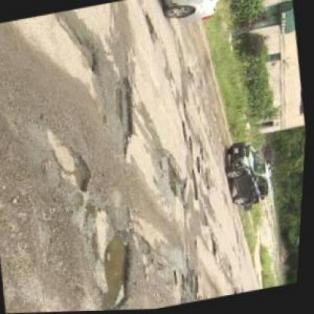Hueco: (90, 227, 148, 311), (47, 130, 100, 201), (108, 75, 146, 158), (78, 38, 102, 76), (164, 157, 185, 200)
